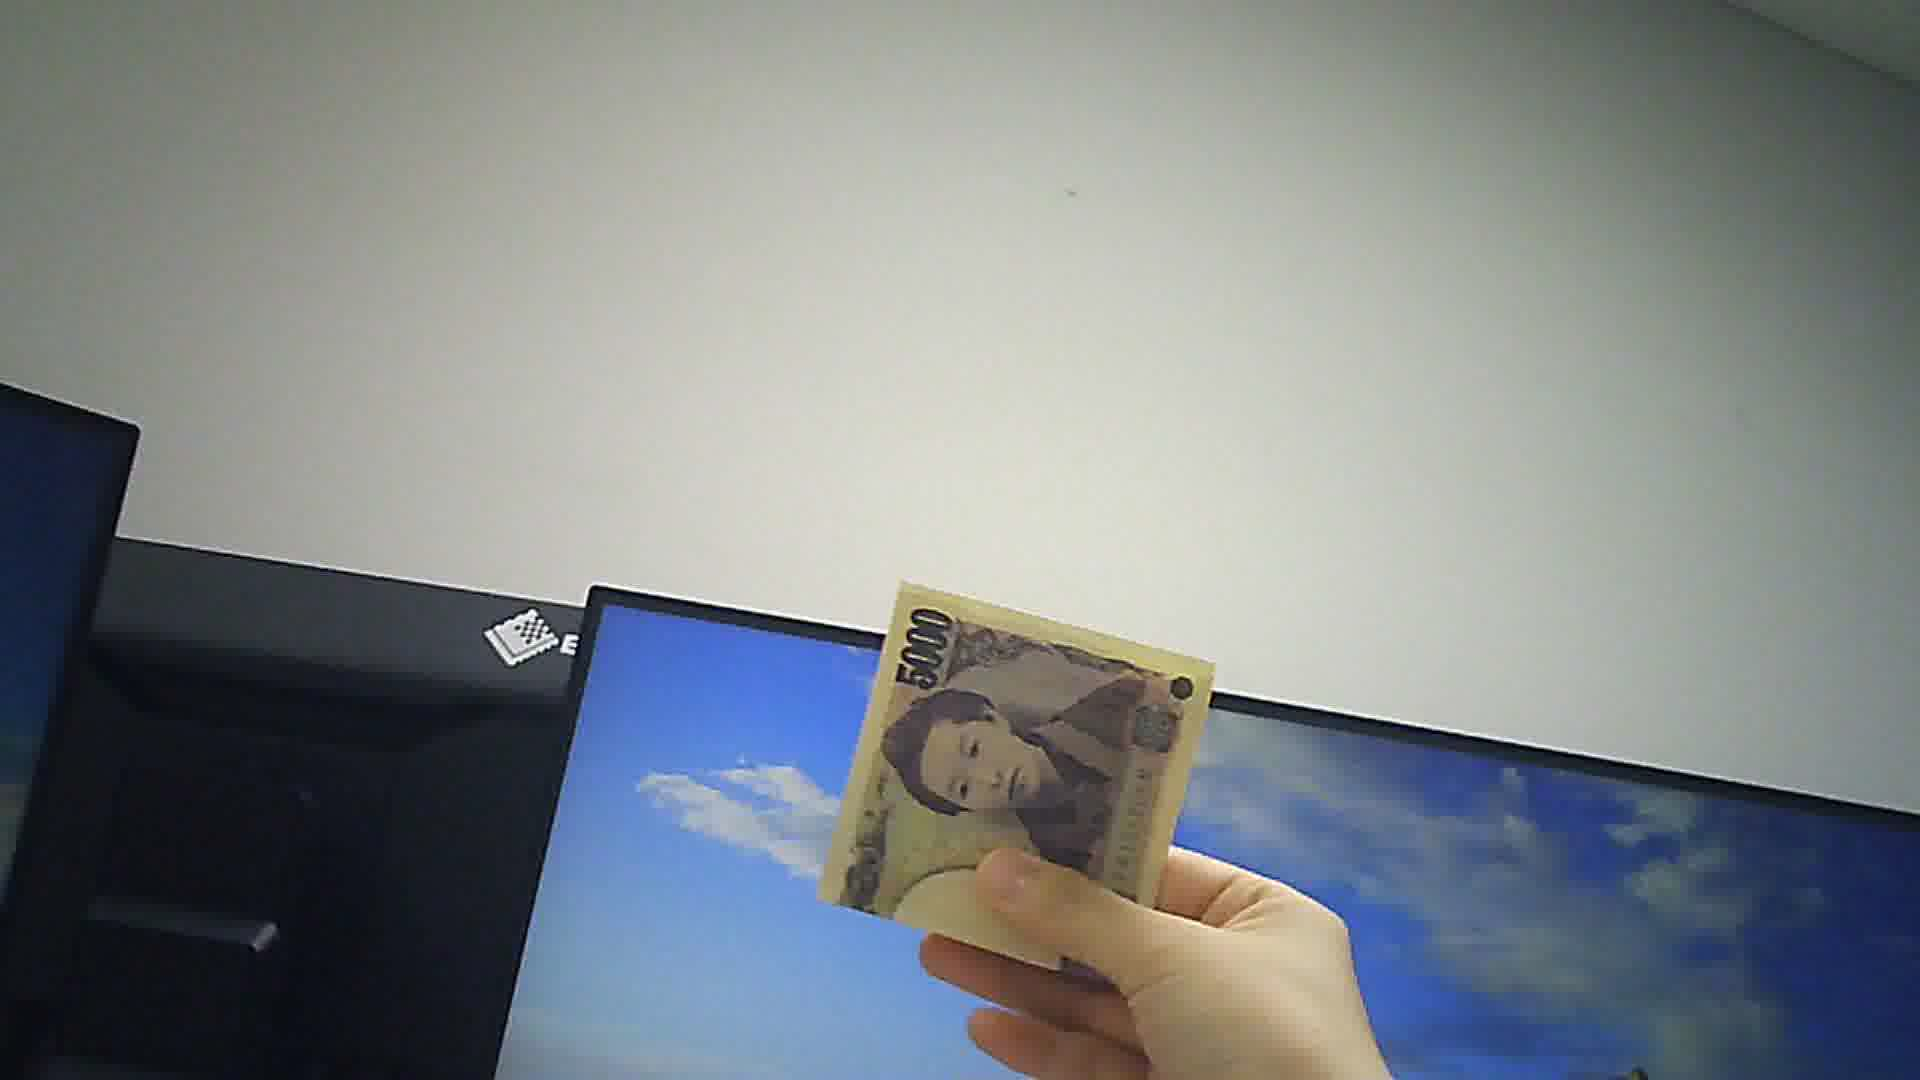5,000 Yen: (828, 583, 1228, 992)
